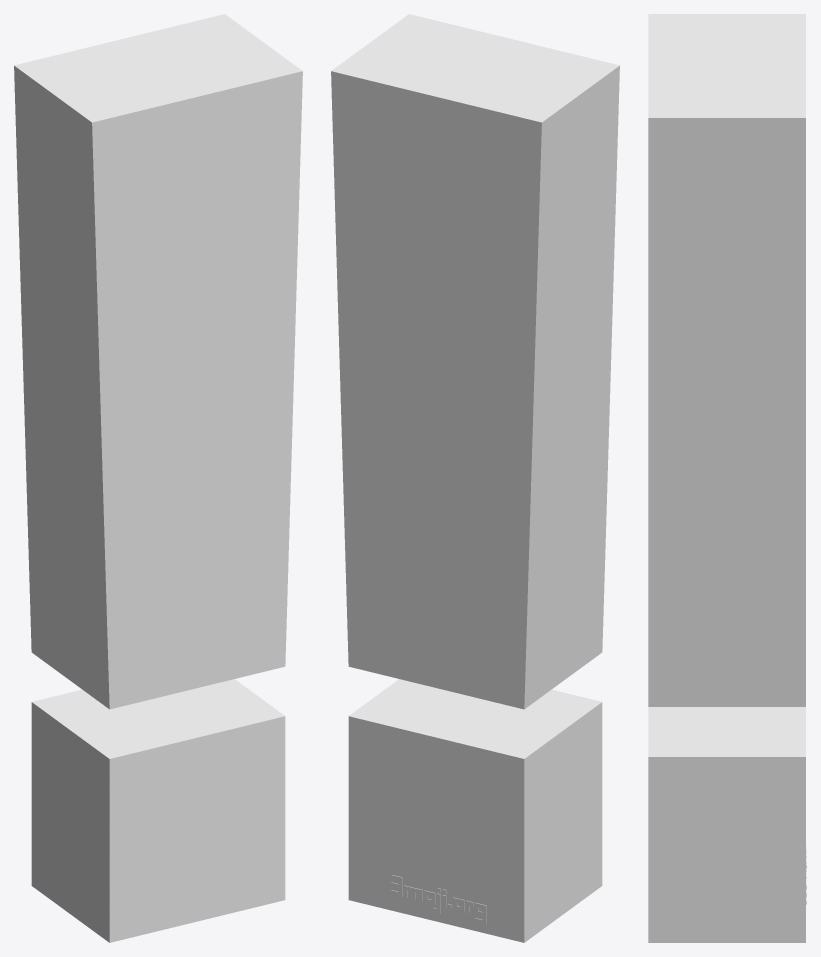
The model's file is white_exclamation_mark.fbx.
3 renders of one model, left to right at view 1: azimuth 30°, elevation 25°; view 2: azimuth 150°, elevation 25°; view 3: azimuth 270°, elevation 25°, orthographic.
Visible parts, largest first — view 1: Cube.6448; view 2: Cube.6448; view 3: Cube.6448.
Boxes of the visible parts, bbox=[...] form: Cube.6448: bbox=[14, 14, 302, 942]; Cube.6448: bbox=[331, 14, 619, 942]; Cube.6448: bbox=[648, 14, 806, 942].
Bounding box in the file's own units: 58.69 × 219 × 37.78.
Materials: 1 (1 with a texture image).
